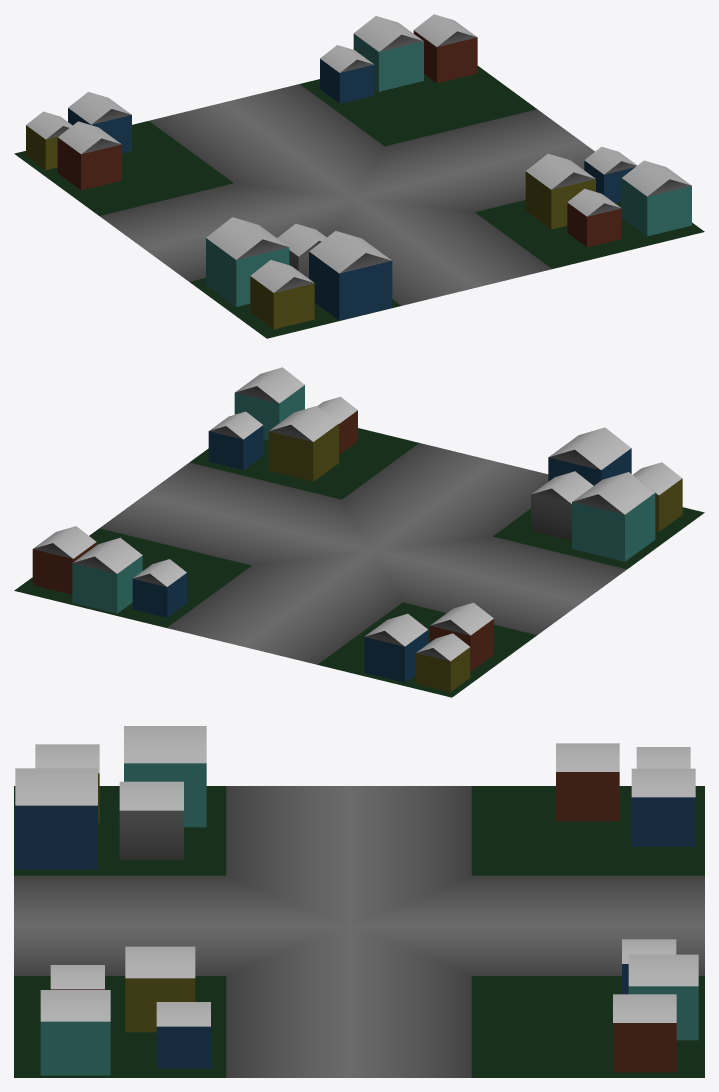
File: terrain_urban_low.fbx
3 views of the same model, one above another, from view 1: azimuth 30°, elevation 25°; view 2: azimuth 150°, elevation 25°; view 3: azimuth 270°, elevation 25° (orthographic). The views are drawn at different scales.
Parts seen in each view (by area): view 1: terrain_urban_light; view 2: terrain_urban_light; view 3: terrain_urban_light.
Part boxes in pixels (x1,y1,x2,y2): terrain_urban_light: (14, 14, 704, 338); terrain_urban_light: (14, 367, 704, 697); terrain_urban_light: (14, 726, 704, 1077).
Bounding box in the file's own units: 10 × 1.34 × 10.
